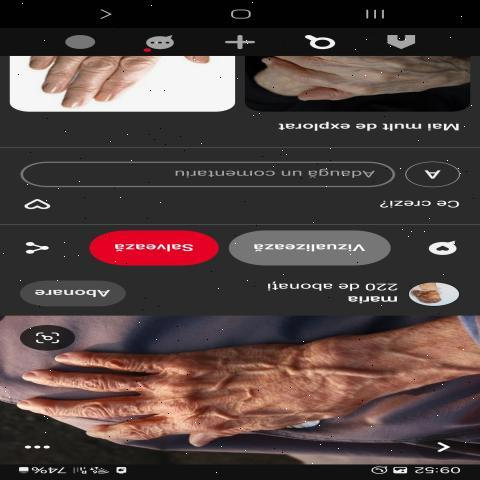Hands: (18, 332, 429, 462)
